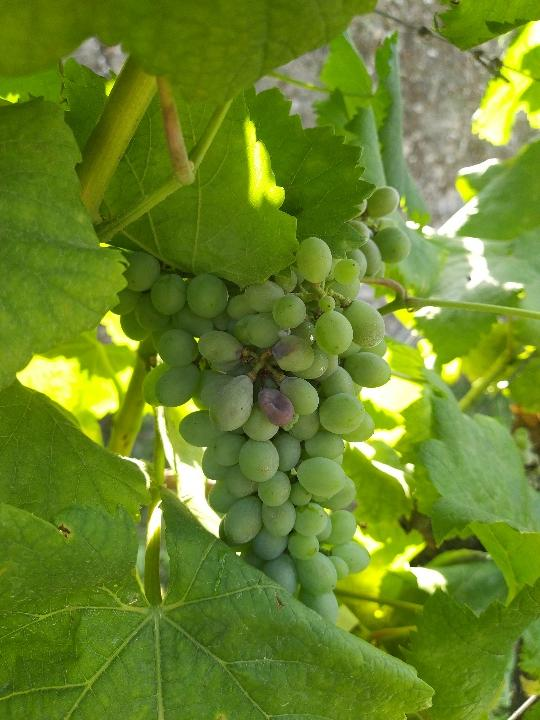grape: (112, 180, 410, 633)
